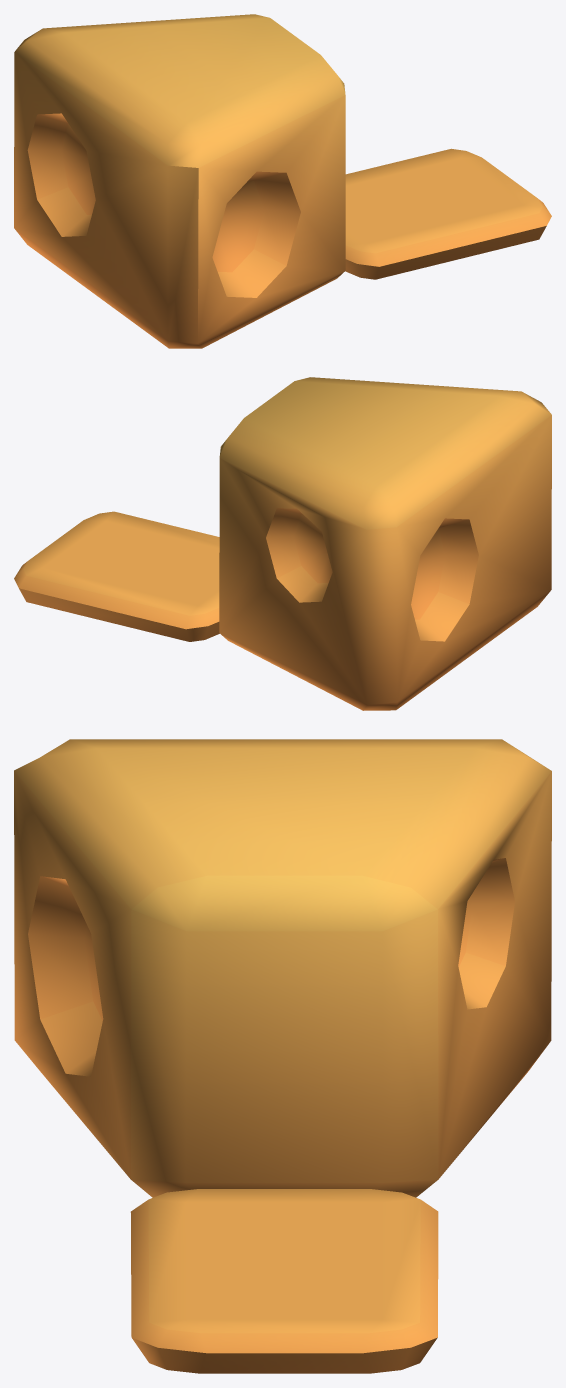
Rendered from food_ingredient_cheese_chopped.obj.
The picture shows the model from 3 angles, top to bottom: view 1: azimuth 30°, elevation 25°; view 2: azimuth 150°, elevation 25°; view 3: azimuth 270°, elevation 25°; orthographic projection. The views are drawn at different scales.
Parts seen in each view (by area): view 1: food_ingredient_cheese_chopped_Cube.011; view 2: food_ingredient_cheese_chopped_Cube.011; view 3: food_ingredient_cheese_chopped_Cube.011.
Part boxes in pixels (left/top/right/bottom): food_ingredient_cheese_chopped_Cube.011: left=14, top=14, right=551, bottom=348; food_ingredient_cheese_chopped_Cube.011: left=14, top=377, right=551, bottom=710; food_ingredient_cheese_chopped_Cube.011: left=14, top=739, right=551, bottom=1373.
Size of the model in its own units: 1.02 by 0.5 by 0.722.
Materials: 1 (1 with a texture image).
